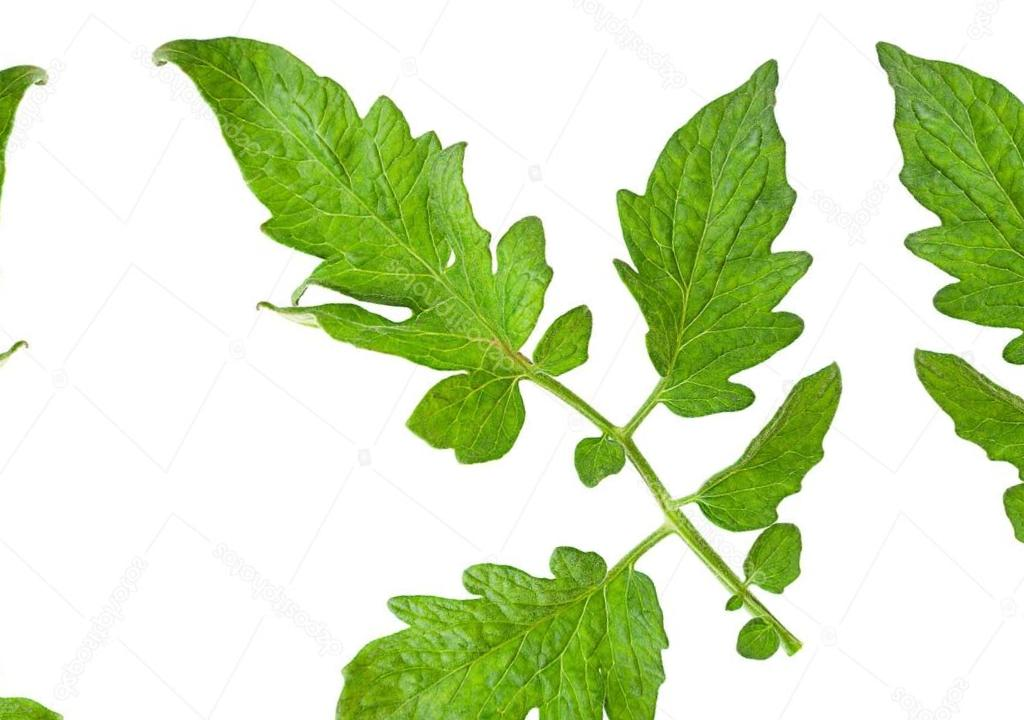Tomato leaf: (148, 0, 607, 538), (590, 11, 844, 428), (291, 513, 686, 720), (658, 355, 874, 547)
